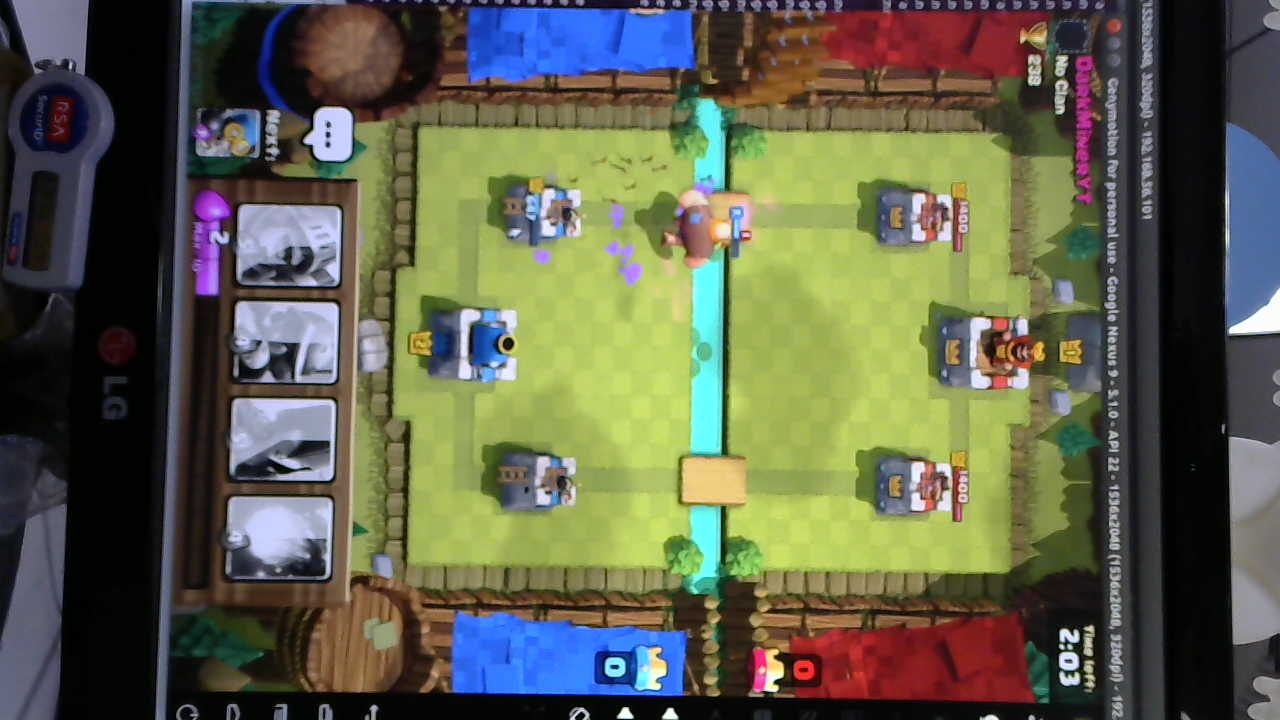arena: (503, 182, 587, 248), (503, 449, 578, 514)
earena: (876, 453, 957, 519), (868, 188, 955, 248)
eking: (933, 315, 1046, 394)
giant: (670, 190, 732, 267)
king: (432, 306, 526, 385)
